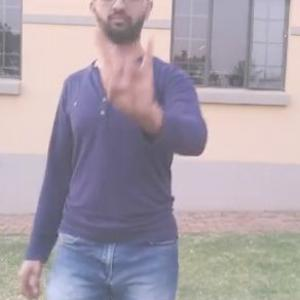takeoff-hand: (92, 26, 164, 122)
